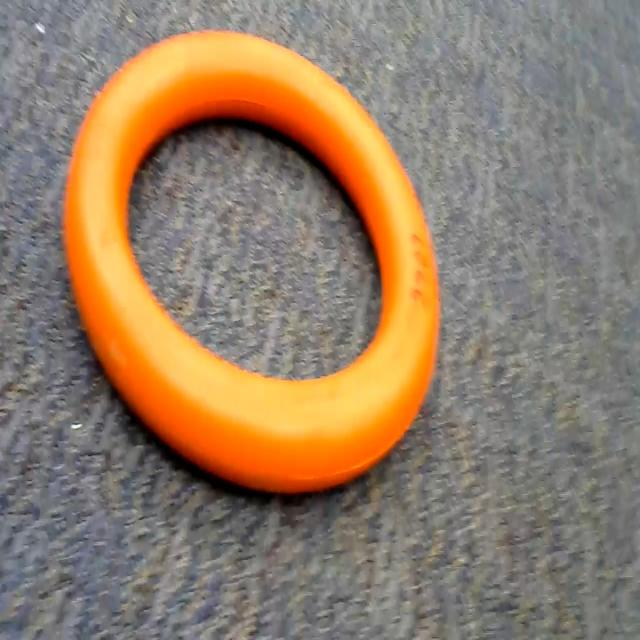note: (55, 0, 455, 508)
